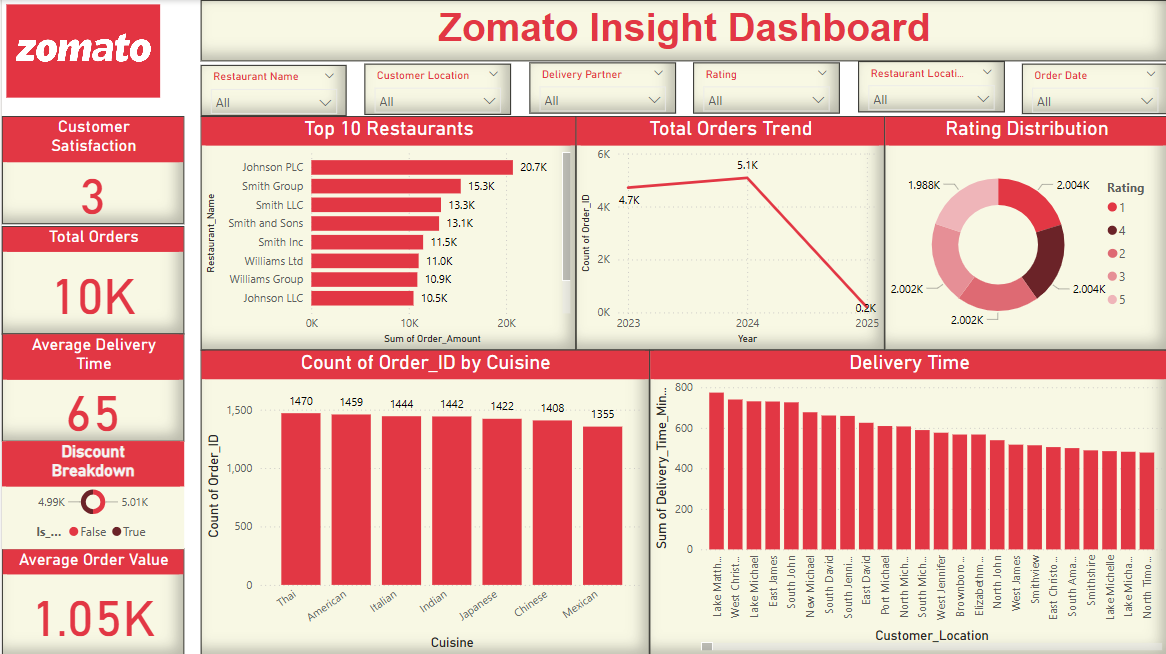

Layout of this report page (visuals, bound fields, positions):
{"tool":"powerbi","page":{"name":"Zomato","canvas":[1280,720],"ordinal":1},"visuals":[{"type":"card","title":"Total Orders","fields":{"Values":["CountNonNull(Sheet1.Order_ID)"]},"box":[0,248.4,200.3,118],"z":0},{"type":"card","title":"Average Delivery Time","fields":{"Values":["Avg(Sheet1.Delivery_Time_Minutes)"]},"box":[0,366.4,200.3,118],"z":1000},{"type":"card","title":"Average Order Value","fields":{"Values":["Avg(Sheet1.Order_Amount)"]},"box":[0,602.4,200.3,118],"z":2000},{"type":"card","title":"Customer Satisfaction","fields":{"Values":["Avg(Sheet1.Rating)"]},"box":[0,127.6,200.3,118],"z":3000},{"type":"donutChart","title":"Discount Breakdown","fields":{"Y":["CountNonNull(Sheet1.Is_Discount_Applied)"],"Category":["Sheet1.Is_Discount_Applied"]},"box":[0,484.4,200.3,118],"z":4000},{"type":"lineChart","title":"Total Orders Trend","fields":{"Category":["Sheet1.Order_Date.Variation.Date Hierarchy.Year","Sheet1.Order_Date.Variation.Date Hierarchy.Quarter","Sheet1.Order_Date.Variation.Date Hierarchy.Month","Sheet1.Order_Date.Variation.Date Hierarchy.Day"],"Y":["CountNonNull(Sheet1.Order_ID)"]},"box":[629.8,127.6,338.9,256.6],"z":5000},{"type":"columnChart","title":"Delivery Time","fields":{"Category":["Sheet1.Customer_Location"],"Y":["Sum(Sheet1.Delivery_Time_Minutes)"]},"box":[710.8,384.2,569.5,336.2],"z":6000},{"type":"barChart","title":"Top 10 Restaurants","fields":{"Category":["Sheet1.Restaurant_Name"],"Y":["Sum(Sheet1.Order_Amount)"]},"box":[218.2,127.6,411.7,256.6],"z":7000},{"type":"donutChart","title":"Rating Distribution","fields":{"Category":["Sheet1.Rating"],"Y":["CountNonNull(Sheet1.Order_ID)"]},"box":[968.8,127.6,311.5,256.6],"z":8000},{"type":"columnChart","fields":{"Category":["Sheet1.Cuisine"],"Y":["CountNonNull(Sheet1.Order_ID)"]},"box":[218.2,384.2,492.6,336.2],"z":9000},{"type":"textbox","box":[218.2,0,1062.1,67.2],"z":10000},{"type":"image","box":[0,0,178.4,112.5],"z":11000},{"type":"slicer","fields":{"Values":["Sheet1.Restaurant_Name"]},"box":[218.2,71.4,160,56.3],"z":12000},{"type":"slicer","fields":{"Values":["Sheet1.Customer_Location"]},"box":[398.1,70.3,160.5,56.3],"z":13000},{"type":"slicer","fields":{"Values":["Sheet1.Delivery_Partner"]},"box":[578.5,69.2,160.5,56.3],"z":14000},{"type":"slicer","fields":{"Values":["Sheet1.Rating"]},"box":[758.9,68.3,160.5,56.3],"z":15000},{"type":"slicer","fields":{"Values":["Sheet1.Restaurant_Location"]},"box":[939.3,67.2,160.5,56.3],"z":16000},{"type":"slicer","fields":{"Values":["Sheet1.Order_Date.Variation.Date Hierarchy.Year","Sheet1.Order_Date.Variation.Date Hierarchy.Quarter","Sheet1.Order_Date.Variation.Date Hierarchy.Month"]},"box":[1119.5,69.4,160.5,54.9],"z":17000}]}

Visuals, with their boxes in screenshot pixels (x1, y1, x2, y2), scaled from the page's 1280x720 canvas onto the 1166x654 screenshot:
"Total Orders" card: Rect(0, 226, 182, 333)
"Average Delivery Time" card: Rect(0, 333, 182, 440)
"Average Order Value" card: Rect(0, 547, 182, 653)
"Customer Satisfaction" card: Rect(0, 116, 182, 223)
"Discount Breakdown" donutChart: Rect(0, 440, 182, 547)
"Total Orders Trend" lineChart: Rect(574, 116, 882, 349)
"Delivery Time" columnChart: Rect(647, 349, 1165, 653)
"Top 10 Restaurants" barChart: Rect(199, 116, 574, 349)
"Rating Distribution" donutChart: Rect(883, 116, 1165, 349)
columnChart - Sheet1.Cuisine x CountNonNull(Sheet1.Order_ID): Rect(199, 349, 647, 653)
textbox: Rect(199, 0, 1165, 61)
image: Rect(0, 0, 163, 102)
slicer - Sheet1.Restaurant_Name: Rect(199, 65, 345, 116)
slicer - Sheet1.Customer_Location: Rect(363, 64, 509, 115)
slicer - Sheet1.Delivery_Partner: Rect(527, 63, 673, 114)
slicer - Sheet1.Rating: Rect(691, 62, 838, 113)
slicer - Sheet1.Restaurant_Location: Rect(856, 61, 1002, 112)
slicer - Sheet1.Order_Date.Variation.Date Hierarchy.Year x Sheet1.Order_Date.Variation.Date Hierarchy.Quarter: Rect(1020, 63, 1165, 113)
